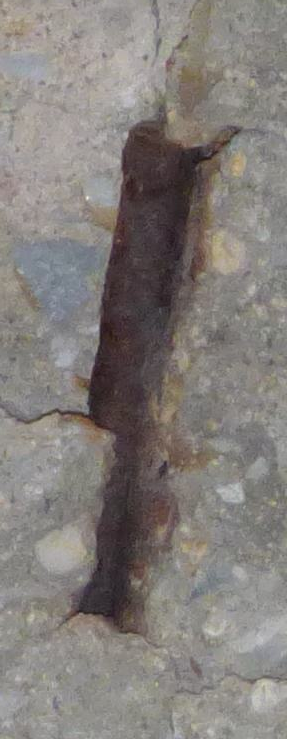Exposed reinforcement: (79, 119, 207, 619)
